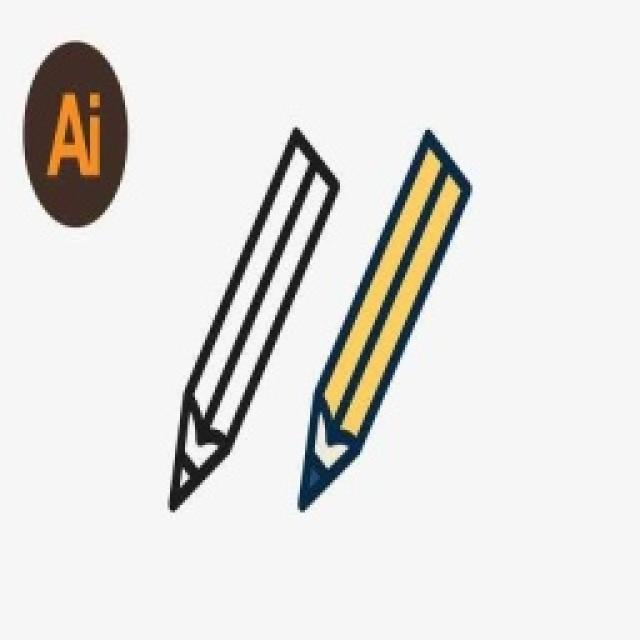pencil: (18, 38, 130, 228)
